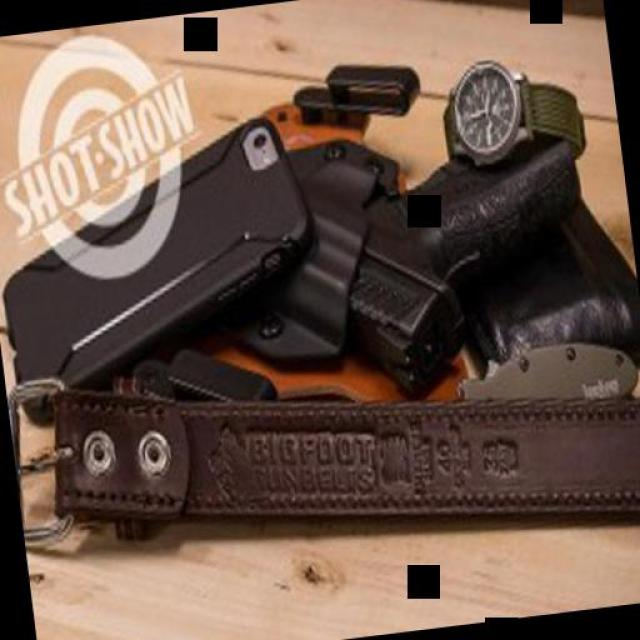gun: (301, 130, 599, 389)
